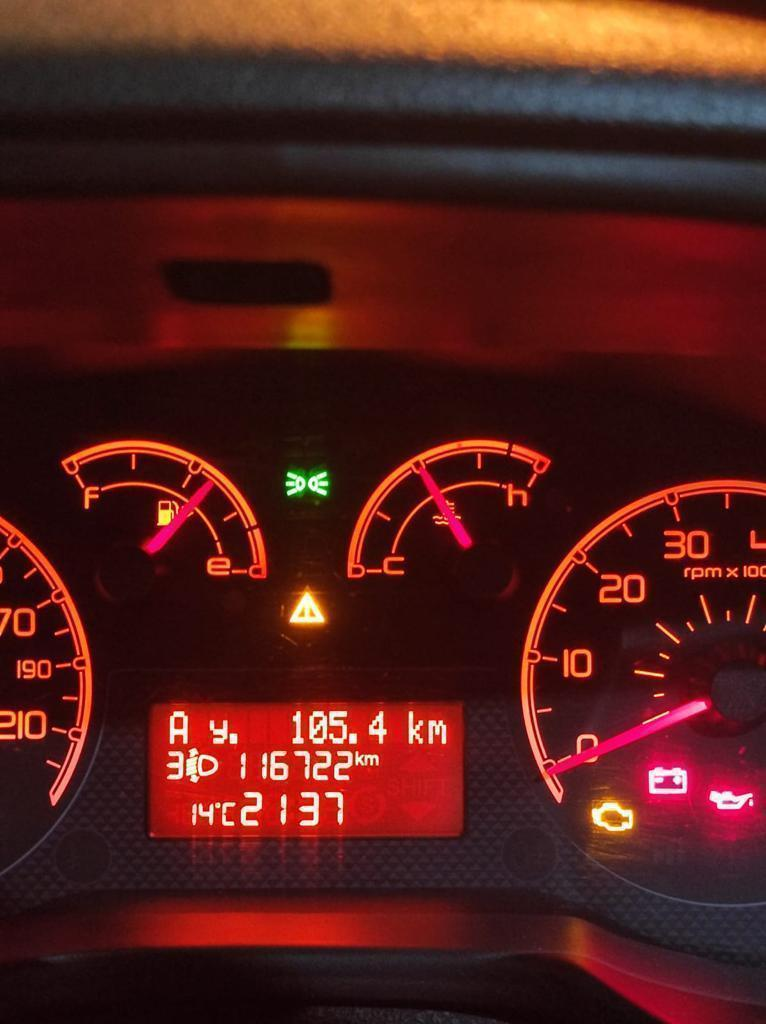,: (228, 731, 240, 745), (347, 731, 358, 746)
0: (307, 709, 329, 744)
1: (289, 708, 304, 744), (236, 750, 251, 782), (257, 750, 270, 784), (277, 790, 289, 826), (187, 800, 199, 828)
2: (239, 789, 264, 827), (311, 750, 332, 780), (333, 750, 353, 781)
3: (299, 791, 321, 826), (165, 750, 185, 781)
4: (365, 710, 391, 745), (197, 801, 214, 830)
5: (328, 709, 348, 744)
6: (269, 748, 289, 780)
7: (324, 788, 344, 826), (291, 748, 312, 779)
X: (166, 709, 192, 745), (405, 708, 426, 746), (429, 709, 450, 746), (221, 800, 240, 829), (208, 718, 228, 743), (365, 752, 379, 767), (353, 751, 365, 768)
odometer: (143, 694, 476, 846)
